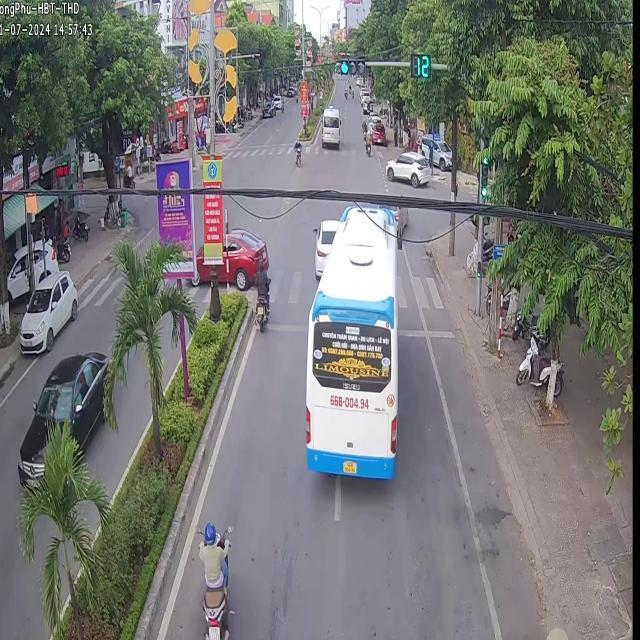car: (304, 202, 396, 478), (181, 228, 265, 290), (382, 149, 431, 187), (314, 219, 337, 276)
green_light: (334, 56, 364, 74), (477, 154, 487, 199)
motobike: (197, 523, 231, 637), (253, 258, 268, 331)
stop_line: (394, 328, 452, 336), (264, 319, 307, 329)
